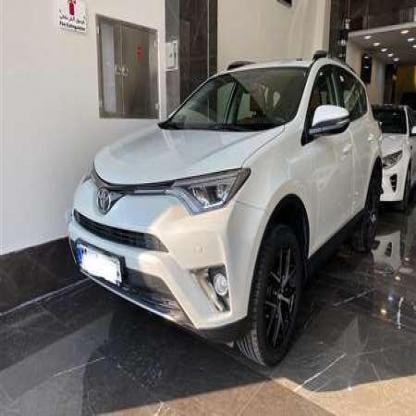Car: (68, 57, 377, 367), (360, 97, 416, 204)
